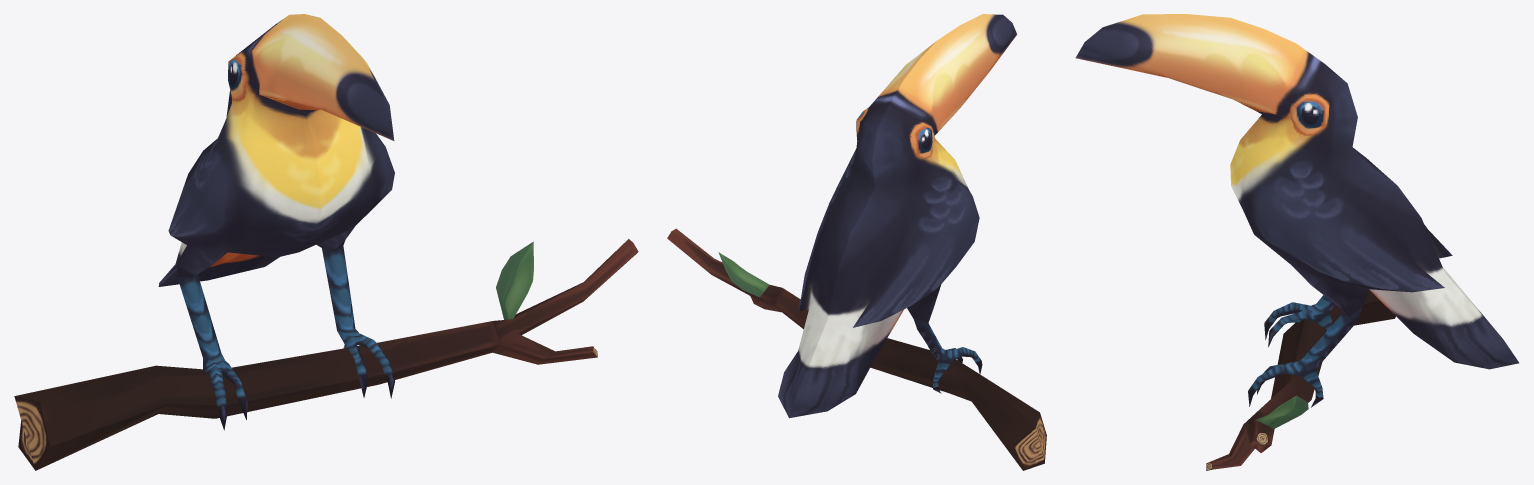
The model's file is WALL_BIRD.glb.
The picture shows the model from 3 angles, left to right: view 1: azimuth 30°, elevation 25°; view 2: azimuth 150°, elevation 25°; view 3: azimuth 270°, elevation 25°; orthographic projection. The views are drawn at different scales.
Parts seen in each view (by area): view 1: branch; view 2: branch; view 3: branch.
Part boxes in pixels (left/top/right/bottom): branch: left=14, top=14, right=638, bottom=470; branch: left=667, top=14, right=1046, bottom=470; branch: left=1075, top=14, right=1519, bottom=470.
Bounding box in the file's own units: 0.6698 × 0.5283 × 0.5376.
2 materials, 2 textured.
